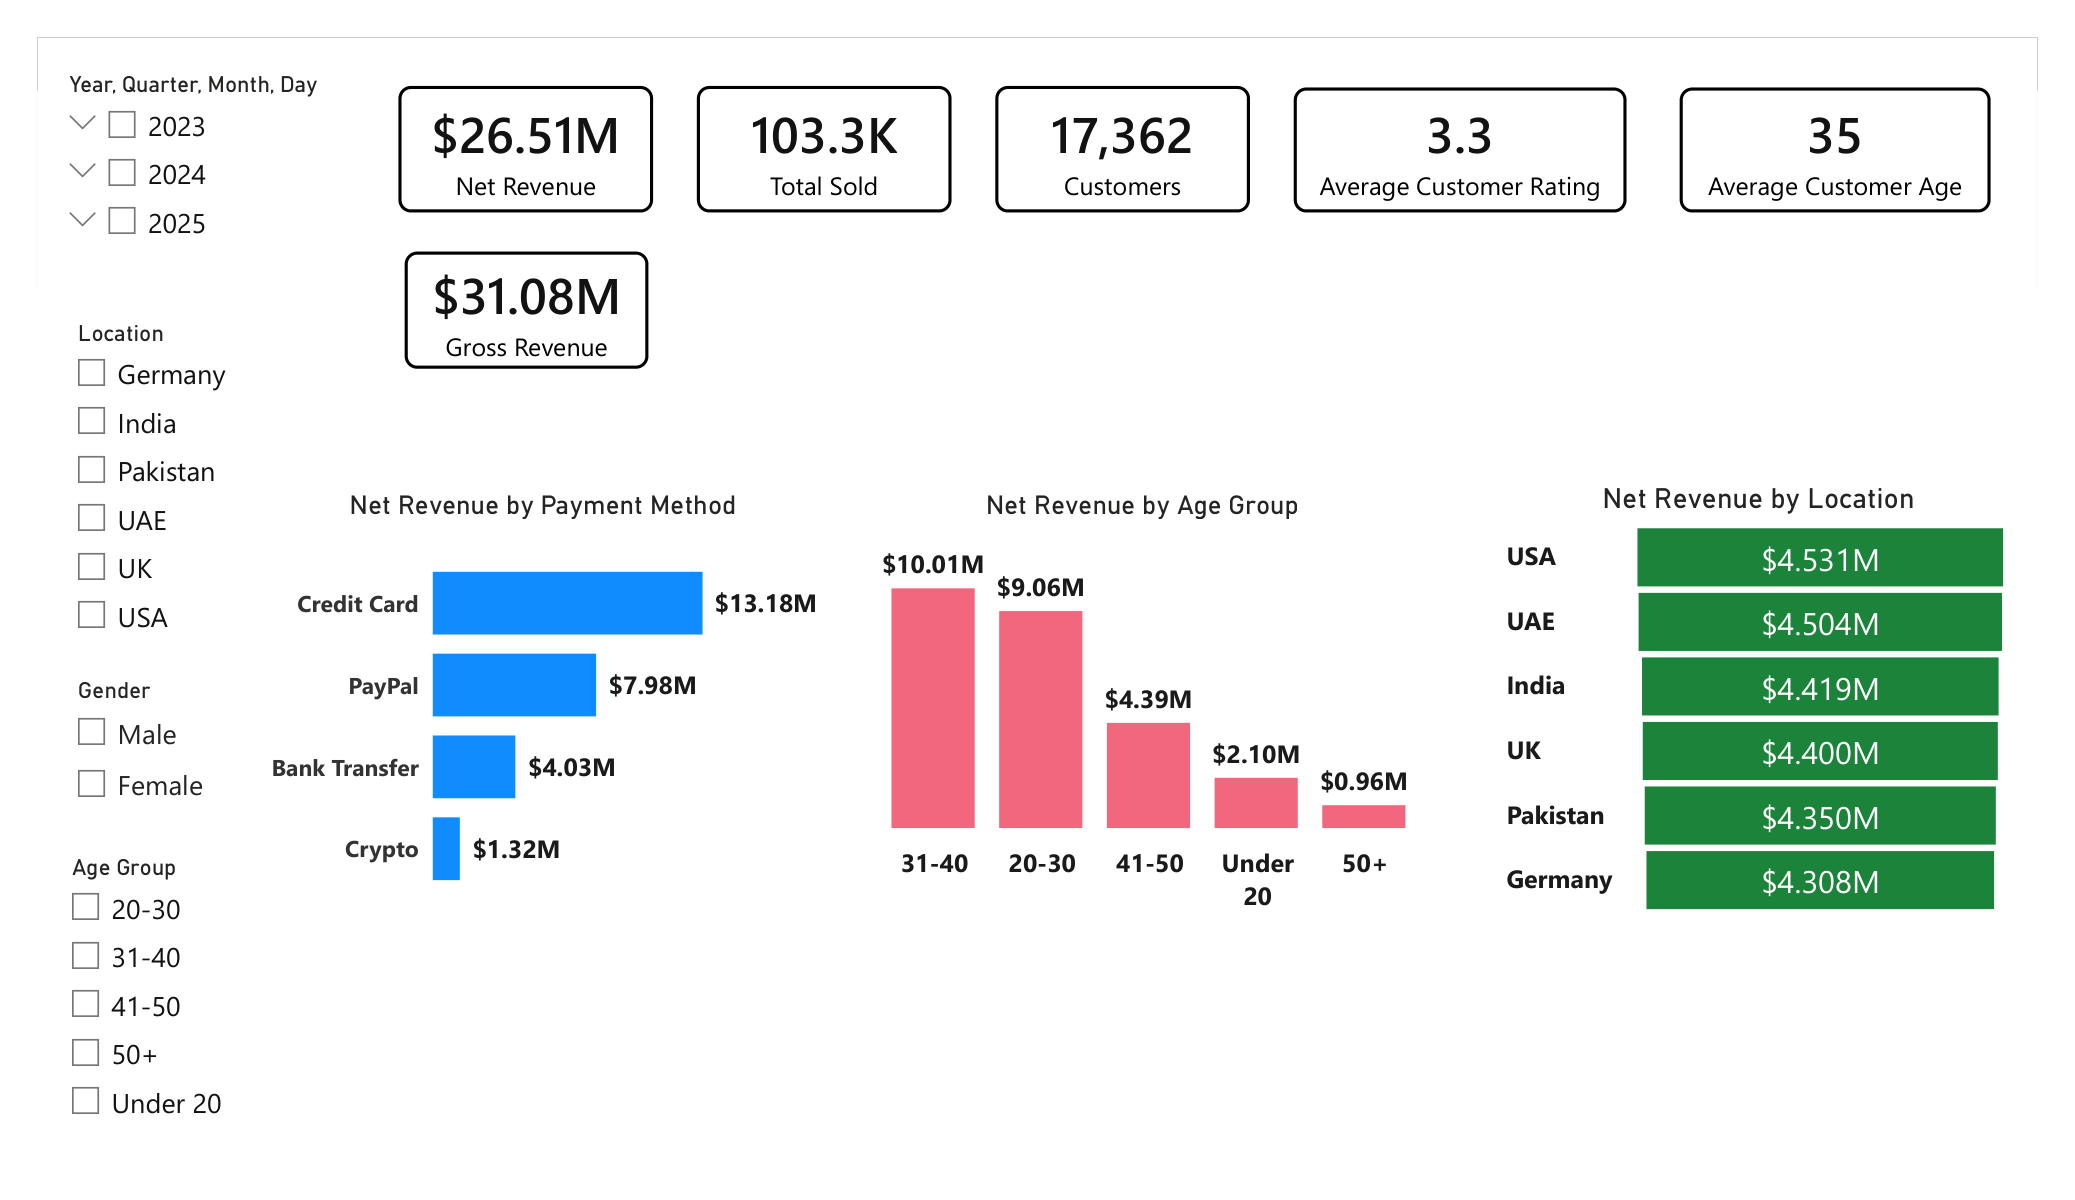

Layout of this report page (visuals, bound fields, positions):
{"tool":"powerbi","page":{"name":"Customer","canvas":[1280,720],"ordinal":1},"visuals":[{"type":"funnel","title":"Net Revenue by Location","fields":{"Category":["global_ecommerce_data.Location"],"Y":["Sum(global_ecommerce_data.Total_Revenue)"]},"box":[935.2,284.1,332.4,282.8],"z":0},{"type":"columnChart","title":"Net Revenue by Age Group","fields":{"Category":["global_ecommerce_data.Age Group"],"Y":["Sum(global_ecommerce_data.Total_Revenue)"]},"box":[504.3,289.2,406.1,277.9],"z":1000},{"type":"cardVisual","fields":{"Data":["Sum(global_ecommerce_data.Total_Revenue)"]},"box":[214,14,196.9,114.6],"z":2000},{"type":"cardVisual","fields":{"Data":["Sum(global_ecommerce_data.Quantity)"]},"box":[404.7,14.3,197.1,114.3],"z":3000},{"type":"cardVisual","fields":{"Data":["Count(global_ecommerce_data.Customer_ID)"]},"box":[595.7,14.3,197.1,114.3],"z":4000},{"type":"cardVisual","fields":{"Data":["Avg(global_ecommerce_data.Customer_Rating)"]},"box":[786.9,14.6,247.2,114.3],"z":5000},{"type":"cardVisual","fields":{"Data":["Avg(global_ecommerce_data.Customer_Age)"]},"box":[1034.1,14.6,232.6,114.3],"z":9000},{"type":"clusteredBarChart","title":"Net Revenue by Payment Method","fields":{"Category":["global_ecommerce_data.Payment_Method"],"Y":["Sum(global_ecommerce_data.Total_Revenue_with_discount)"]},"box":[142.9,289.2,361.4,277.9],"z":11000},{"type":"slicer","fields":{"Values":["global_ecommerce_data.Date.Variation.Date Hierarchy.Year","global_ecommerce_data.Date.Variation.Date Hierarchy.Quarter","global_ecommerce_data.Date.Variation.Date Hierarchy.Month","global_ecommerce_data.Date.Variation.Date Hierarchy.Day"]},"box":[7.2,17.3,201.6,161.3],"z":12001},{"type":"slicer","fields":{"Values":["global_ecommerce_data.Gender"]},"box":[13,404.6,108,108],"z":12002},{"type":"slicer","fields":{"Values":["global_ecommerce_data.Age Group"]},"box":[8.6,518.4,142.6,185.8],"z":12003},{"type":"slicer","fields":{"Values":["global_ecommerce_data.Location"]},"box":[13,175.7,129.6,217.4],"z":12004},{"type":"cardVisual","fields":{"Data":["Sum(global_ecommerce_data.Gross_Revenue)"]},"box":[217.9,120,190.3,109],"z":12005}]}

Visuals, with their boxes on the page's 1280x720 design canvas (x1, y1, x2, y2). These are canvas units, not pixel positions in the 2075x1200 screenshot, which may show the page scaled, cropped or inside an application window:
"Net Revenue by Location" funnel: {"left": 935, "top": 284, "right": 1268, "bottom": 567}
"Net Revenue by Age Group" columnChart: {"left": 504, "top": 289, "right": 910, "bottom": 567}
cardVisual - Sum(global_ecommerce_data.Total_Revenue): {"left": 214, "top": 14, "right": 411, "bottom": 129}
cardVisual - Sum(global_ecommerce_data.Quantity): {"left": 405, "top": 14, "right": 602, "bottom": 129}
cardVisual - Count(global_ecommerce_data.Customer_ID): {"left": 596, "top": 14, "right": 793, "bottom": 129}
cardVisual - Avg(global_ecommerce_data.Customer_Rating): {"left": 787, "top": 15, "right": 1034, "bottom": 129}
cardVisual - Avg(global_ecommerce_data.Customer_Age): {"left": 1034, "top": 15, "right": 1267, "bottom": 129}
"Net Revenue by Payment Method" clusteredBarChart: {"left": 143, "top": 289, "right": 504, "bottom": 567}
slicer - global_ecommerce_data.Date.Variation.Date Hierarchy.Year x global_ecommerce_data.Date.Variation.Date Hierarchy.Quarter: {"left": 7, "top": 17, "right": 209, "bottom": 179}
slicer - global_ecommerce_data.Gender: {"left": 13, "top": 405, "right": 121, "bottom": 513}
slicer - global_ecommerce_data.Age Group: {"left": 9, "top": 518, "right": 151, "bottom": 704}
slicer - global_ecommerce_data.Location: {"left": 13, "top": 176, "right": 143, "bottom": 393}
cardVisual - Sum(global_ecommerce_data.Gross_Revenue): {"left": 218, "top": 120, "right": 408, "bottom": 229}
